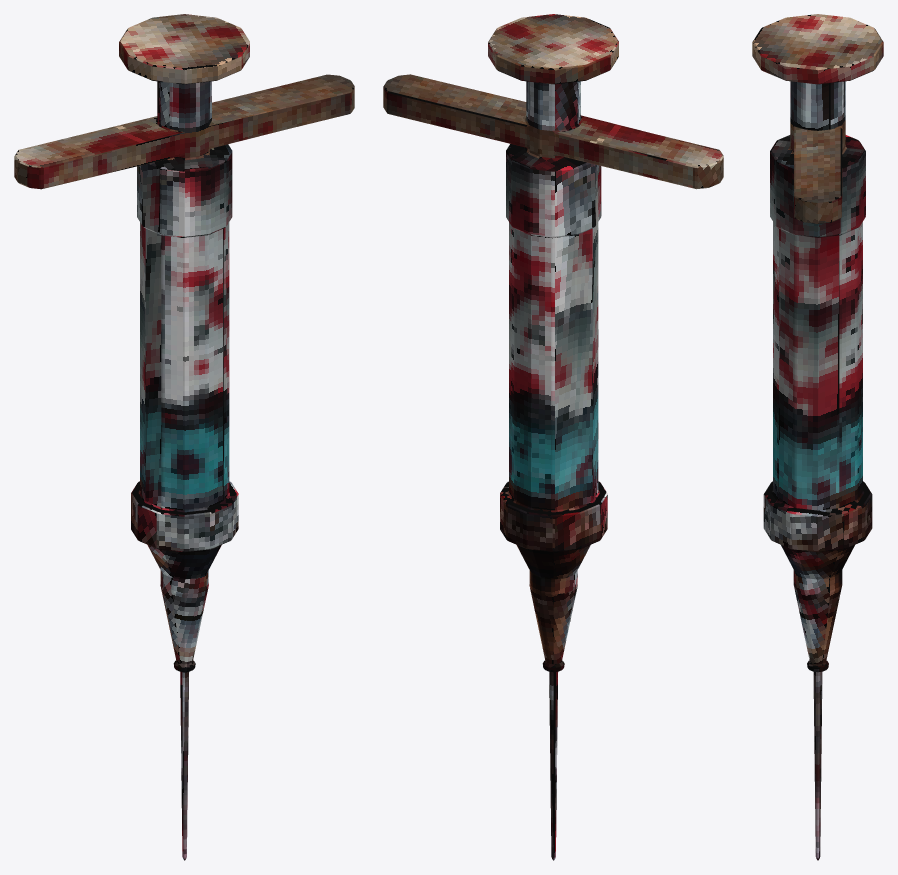
File: basic_ruisku.glb
The picture shows the model from 3 angles, left to right: view 1: azimuth 30°, elevation 25°; view 2: azimuth 150°, elevation 25°; view 3: azimuth 270°, elevation 25°; orthographic projection.
Visible parts, largest first — view 1: basic_ruisku; view 2: basic_ruisku; view 3: basic_ruisku.
Boxes of the visible parts, bbox=[...] form: basic_ruisku: bbox=[14, 14, 354, 860]; basic_ruisku: bbox=[383, 14, 723, 860]; basic_ruisku: bbox=[752, 14, 883, 860].
Bounding box in the file's own units: 0.4478 × 1.05 × 0.1531.
1 material, 1 textured.
